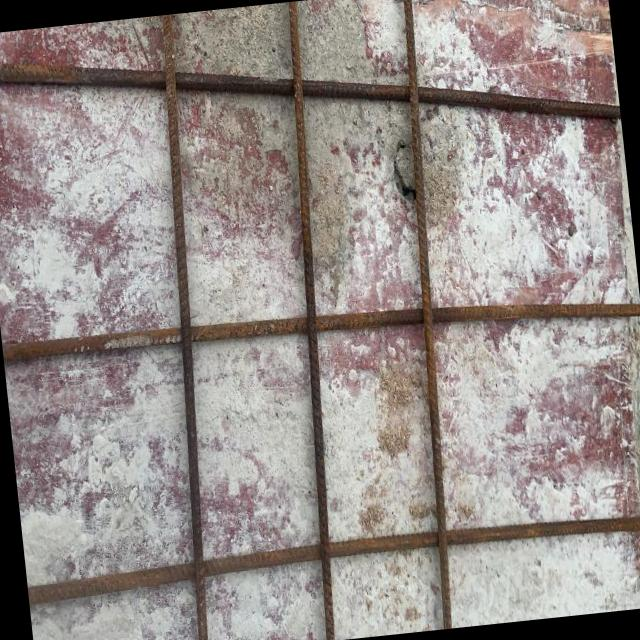ribbed bar: (0, 0, 621, 190), (1, 271, 640, 383), (256, 0, 363, 640), (131, 13, 238, 640), (374, 0, 479, 628), (25, 499, 640, 606)
